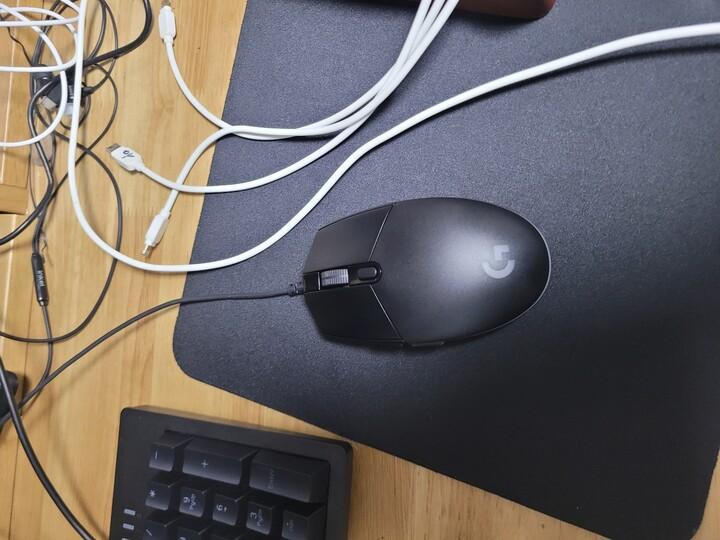keyboard: (108, 403, 353, 539)
mouse: (300, 195, 550, 348)
